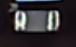COMP: (10, 8, 63, 35)
STAN: (6, 2, 19, 14)
